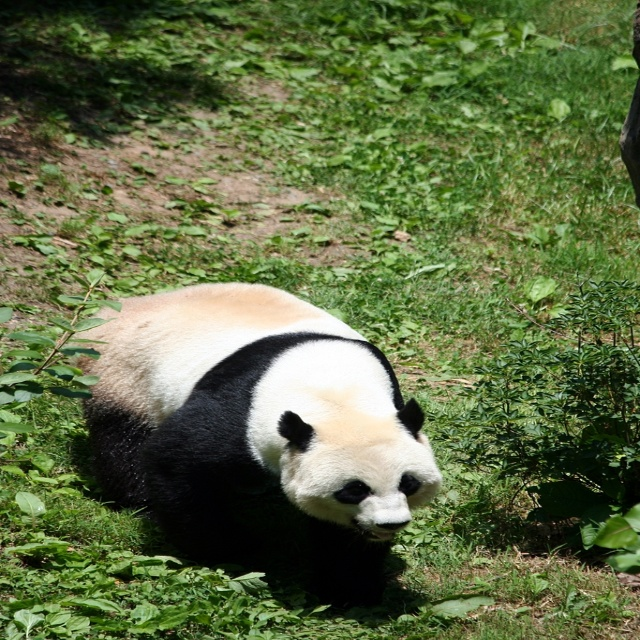Panda: (61, 280, 445, 598)
